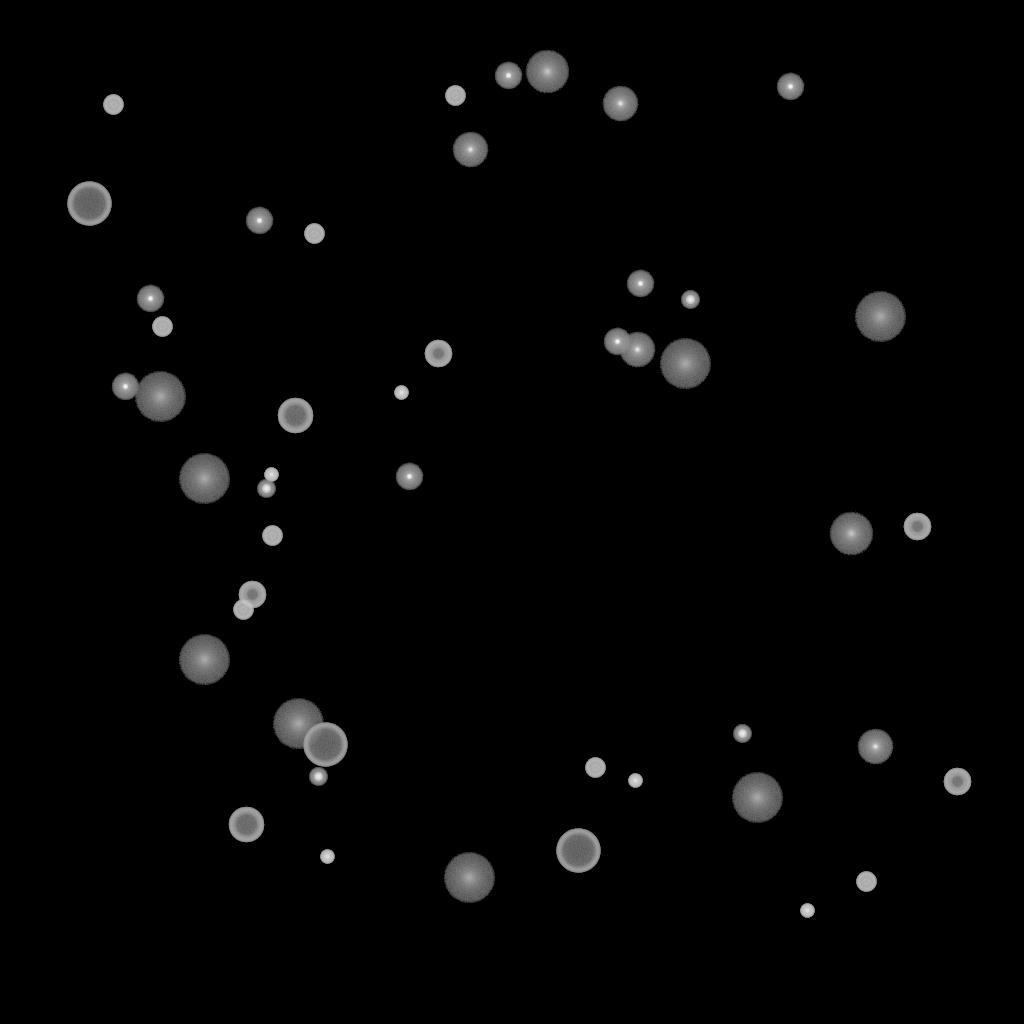depth:-10: (111, 373, 139, 401), (776, 73, 804, 101), (603, 328, 631, 356), (494, 62, 522, 90), (626, 270, 654, 298), (395, 463, 423, 491), (245, 207, 273, 235), (136, 285, 164, 313)
depth:-20: (257, 480, 275, 498), (309, 768, 327, 786), (681, 291, 699, 309), (733, 725, 751, 743)
depth:-30: (394, 386, 408, 400), (800, 904, 814, 918), (264, 468, 278, 482), (320, 850, 334, 864), (628, 774, 642, 788)
depth:-40: (856, 872, 876, 892), (103, 95, 123, 115), (262, 526, 282, 546), (152, 317, 172, 337), (585, 758, 605, 778), (304, 224, 324, 244), (233, 600, 253, 620), (445, 86, 465, 106)
depth:-50: (238, 581, 266, 609), (943, 768, 971, 796), (424, 340, 452, 368), (903, 513, 931, 541)
depth:-60: (228, 807, 264, 843), (277, 398, 313, 434)
depth:-70: (303, 723, 347, 767), (556, 829, 600, 873), (67, 182, 111, 226)
depth:0: (452, 132, 488, 168), (857, 729, 893, 765), (619, 332, 655, 368), (602, 86, 638, 122)
depth:10: (829, 512, 873, 556), (525, 50, 569, 94)
depth:20: (134, 372, 186, 422), (443, 853, 495, 903), (659, 339, 711, 389), (178, 454, 230, 504), (854, 292, 906, 342), (272, 699, 324, 749), (178, 635, 230, 685), (731, 773, 783, 823)
